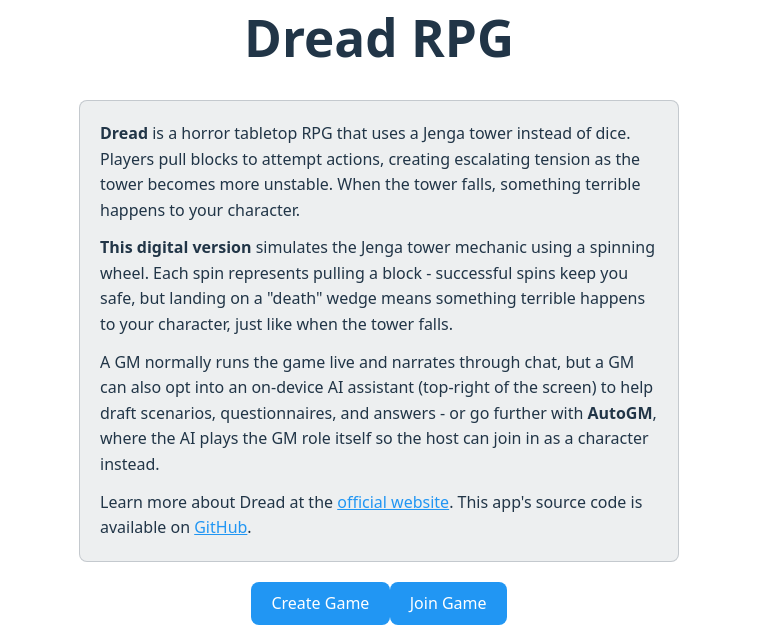
PreGame Component › should show create game form when create button is clicked
Click the button "Create Game" at (320,603), box [251,582,390,625]
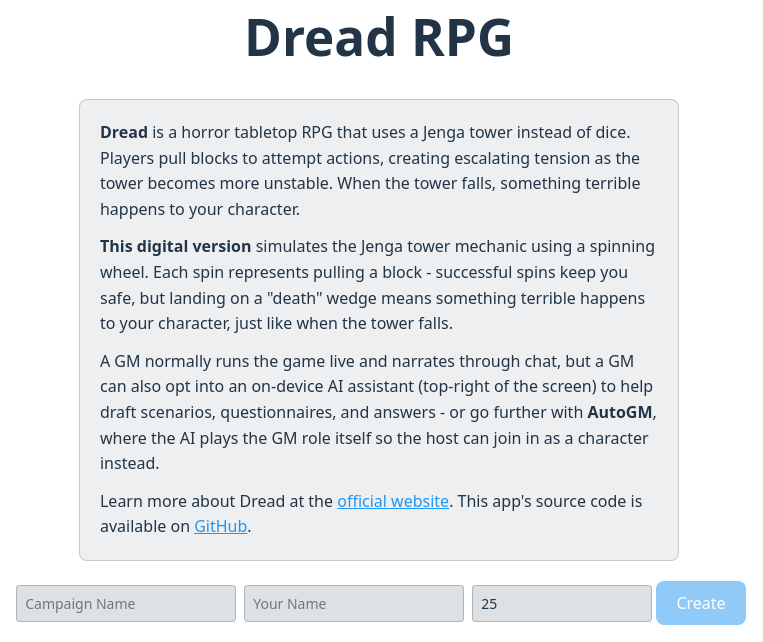
Expected: the button "Create" is shown, [656,581,746,624]
Result: the field with placeholder "Your Name" is shown at [244,585,464,622]
Result: the number field with placeholder "Tower Size" is shown at [472,585,652,622]
